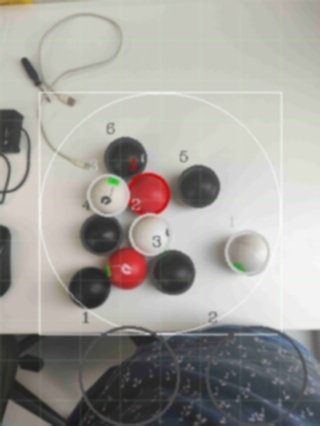Pelota blanca: (34, 12, 123, 94), (223, 230, 273, 278), (127, 212, 174, 256), (84, 172, 129, 216), (0, 398, 49, 425)
Pelota negra: (44, 323, 318, 425), (148, 249, 195, 296), (103, 134, 147, 182), (175, 164, 222, 208), (68, 265, 113, 310), (79, 214, 123, 256)
Pelota roja: (127, 172, 171, 216), (106, 246, 147, 291)
